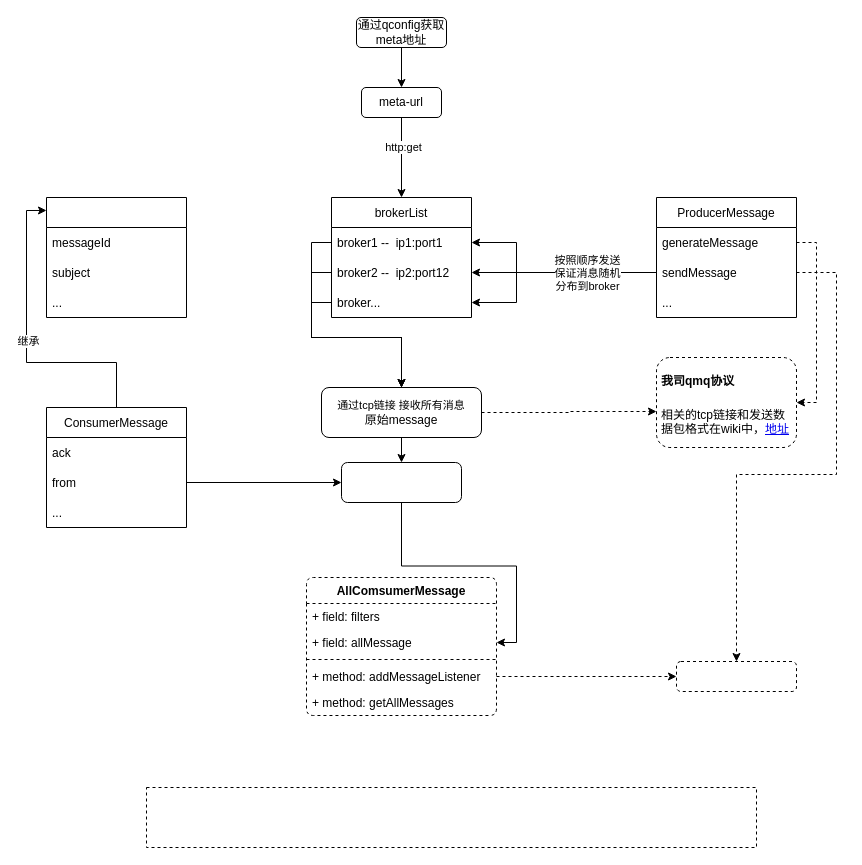
This 862x865 diagram has some shape labels left out. The box of each missing label's shape, as (x1, y1, x2, y2) in pixels:
BaseMessage: (46, 196, 186, 318)
对外暴露的方法: (676, 660, 796, 692)
开发之前对整体组件的概况梳理，理论上结构不需要改动，实际实现时可根据实际情况进行修改: (146, 786, 756, 848)
通过原始消息 实例化 ConsumerMessage: (340, 462, 462, 502)
